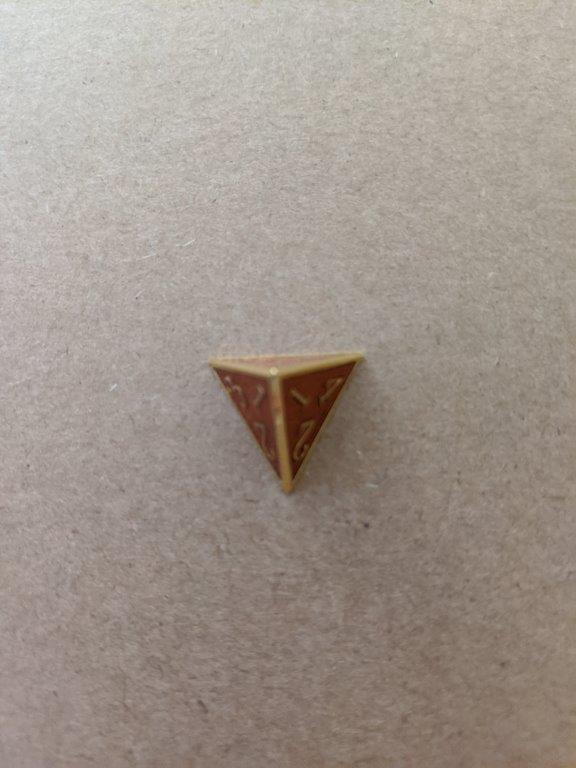d4-1: (206, 339, 367, 500)
